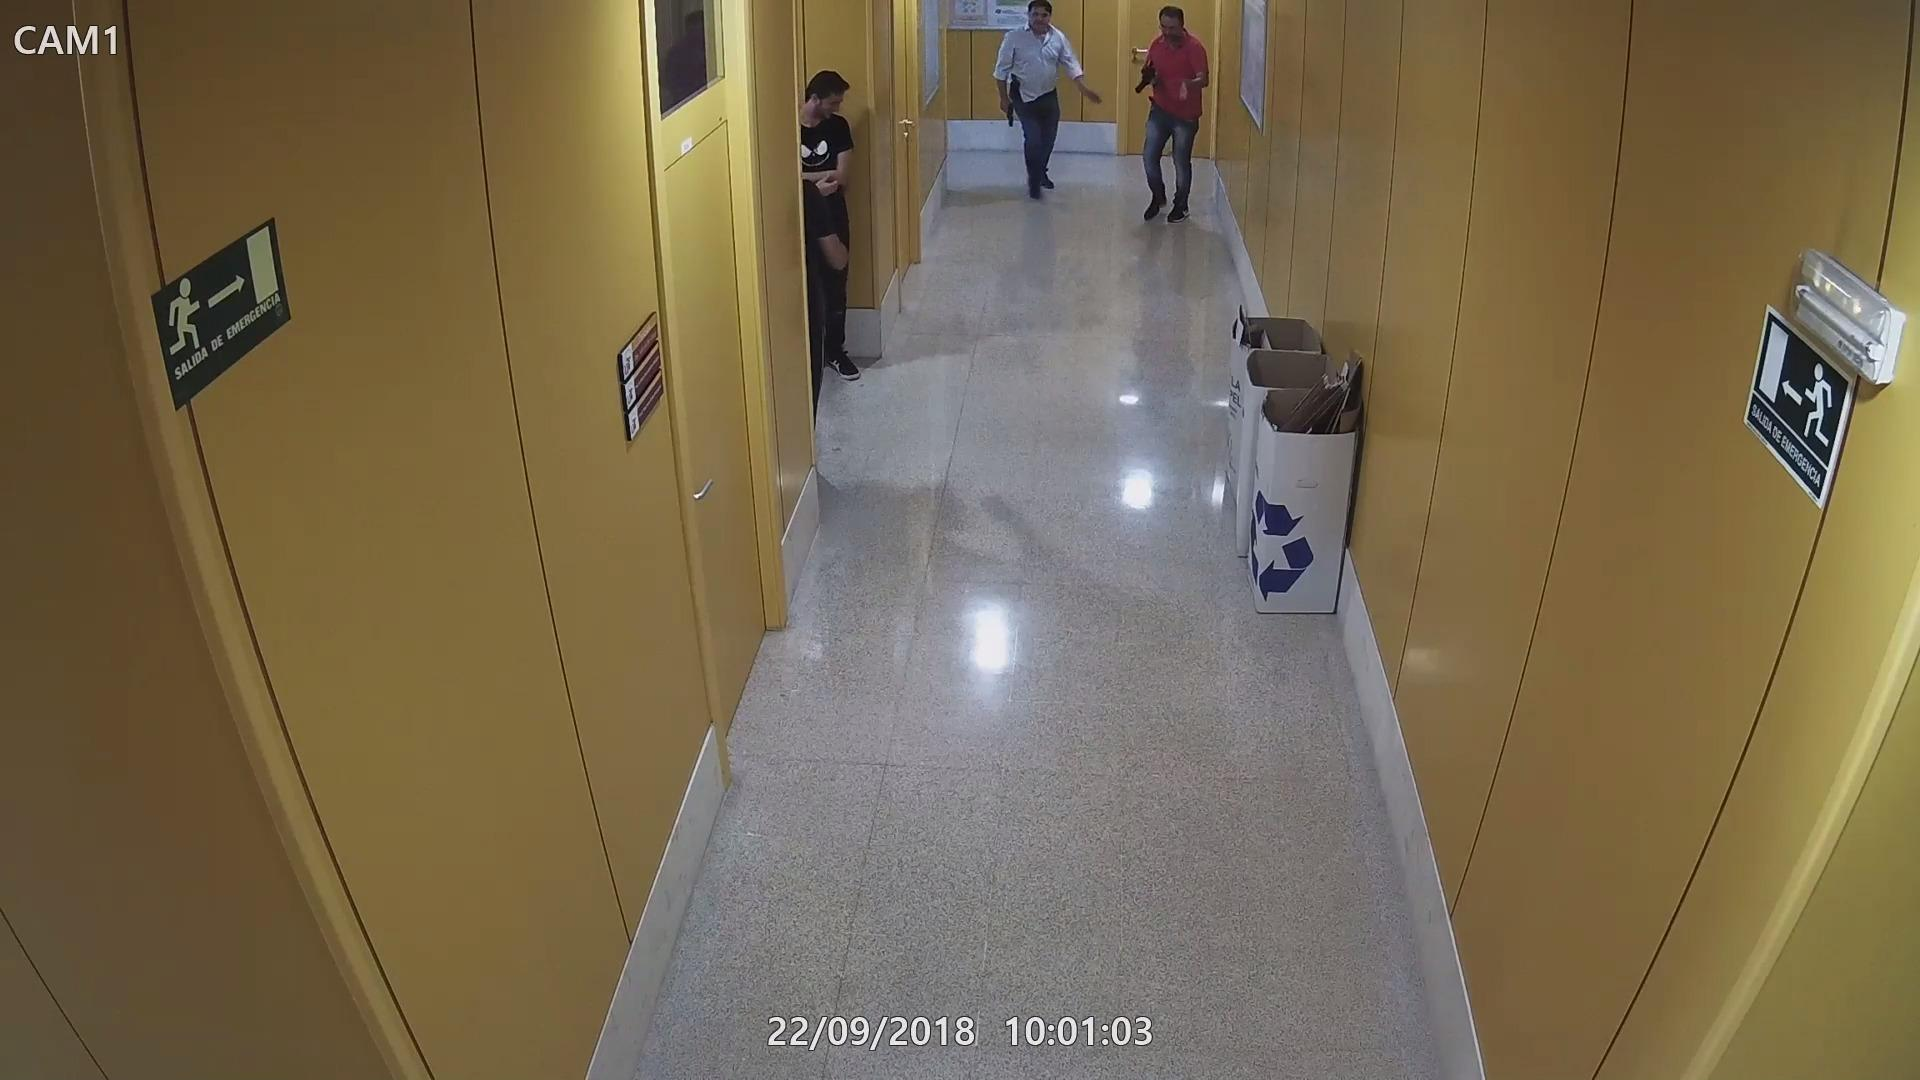Handgun: (1002, 96, 1030, 131)
